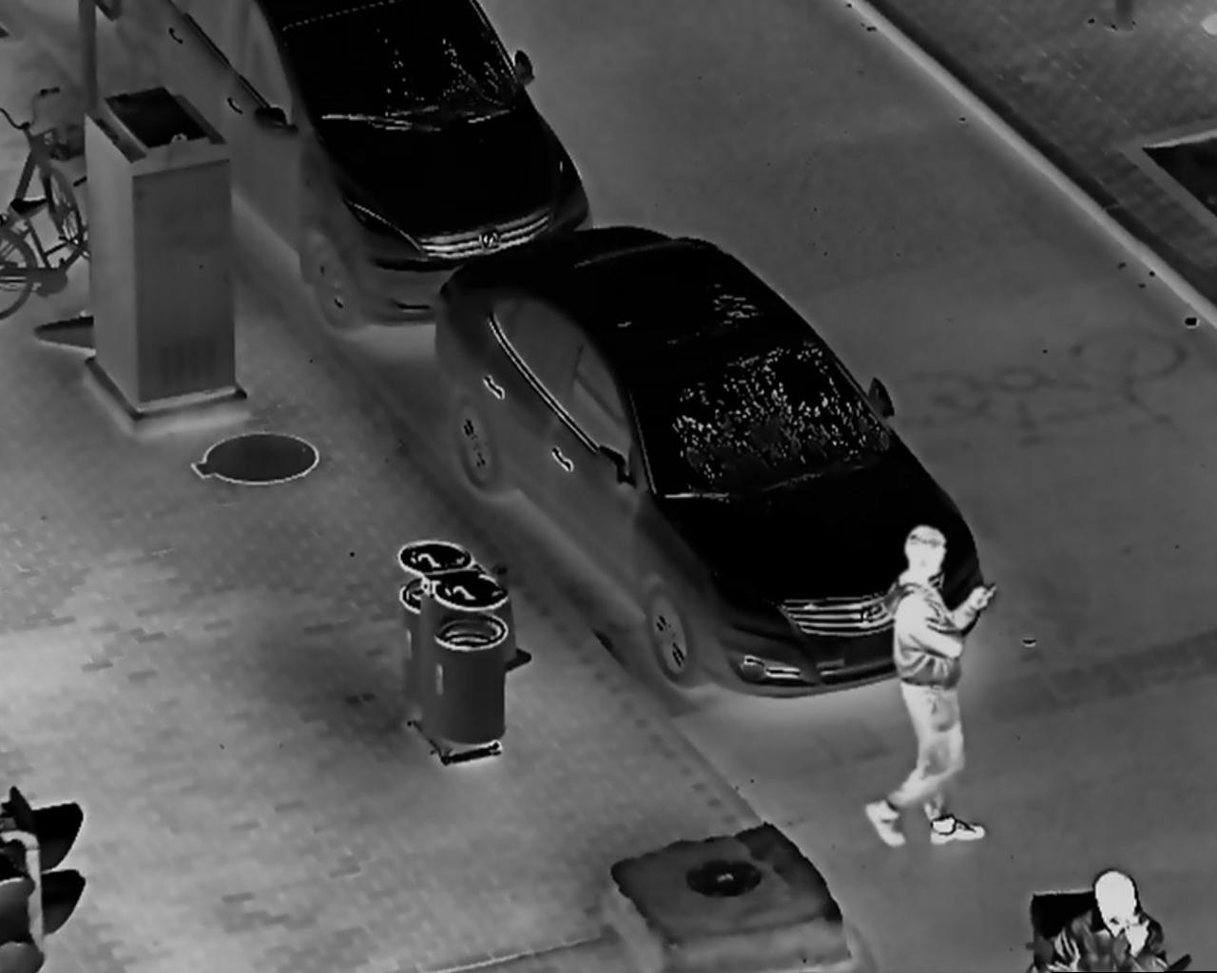person: (865, 525, 996, 850), (1041, 869, 1183, 973)
